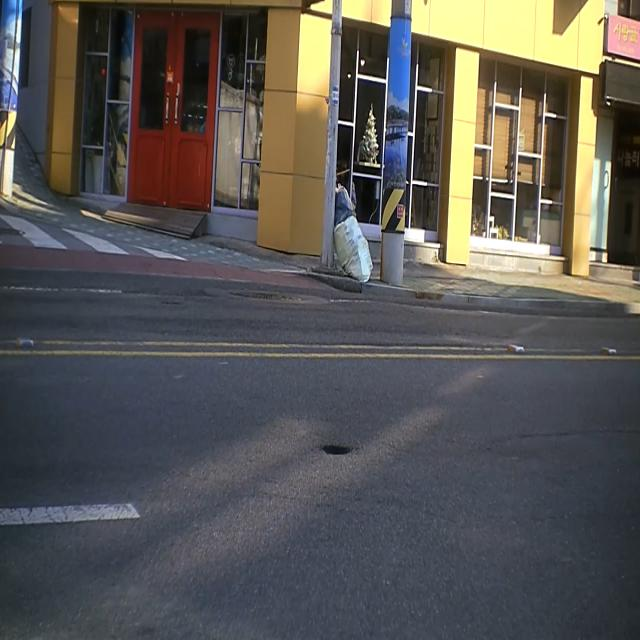Pothole: (314, 431, 364, 465)
